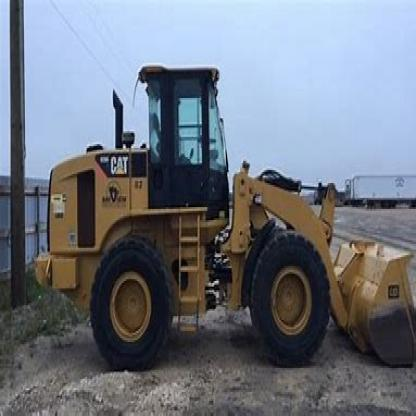bull_dozer/loader/grader: (21, 54, 415, 379)
